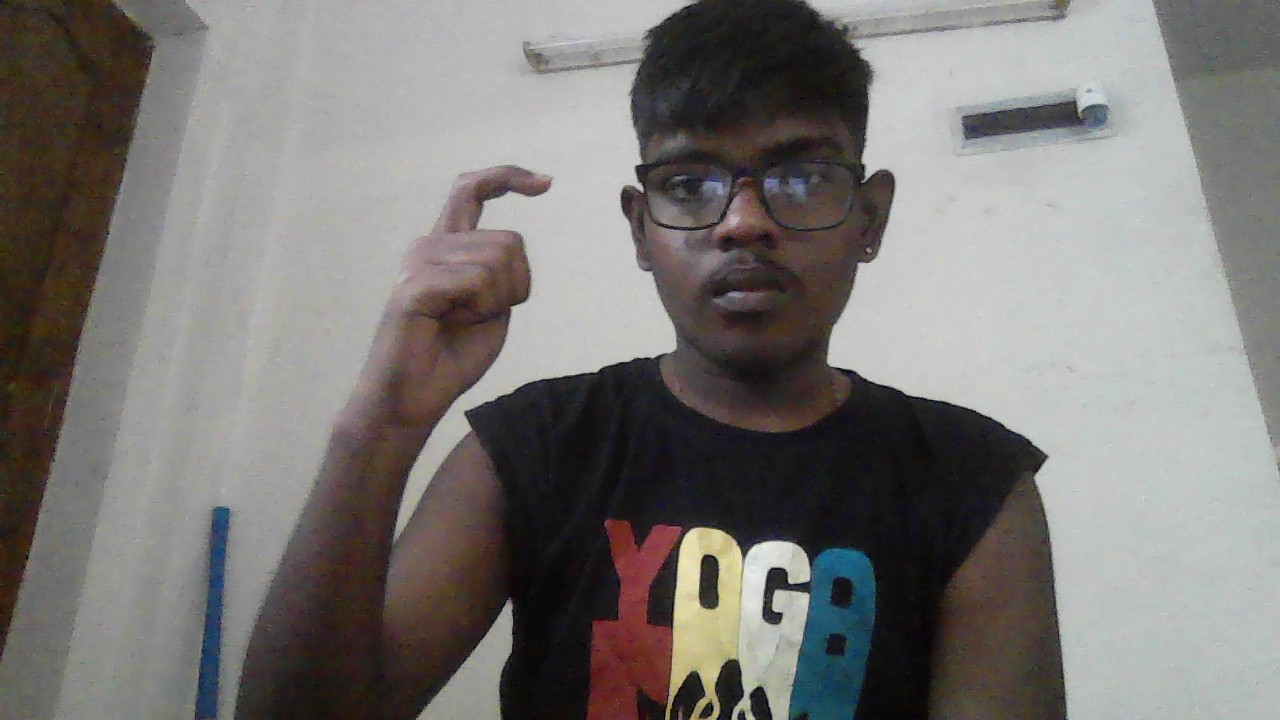X: (377, 166, 552, 398)
